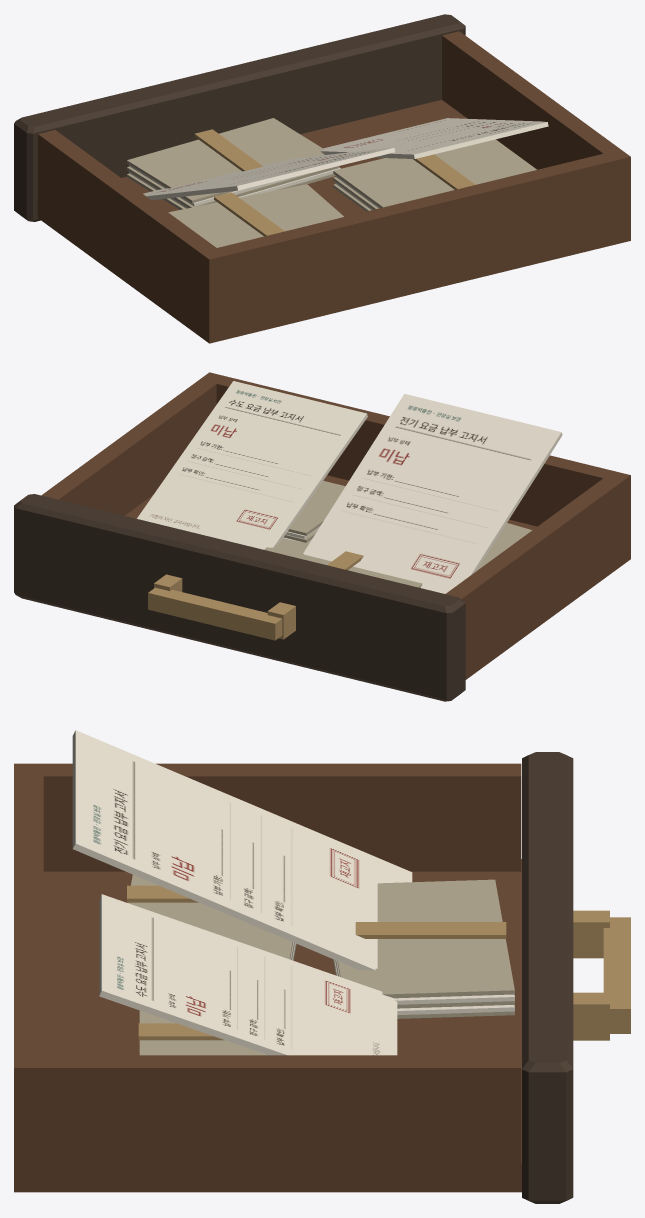
File: C01_Overdue_Utility_Drawer.fbx
The picture shows the model from 3 angles, top to bottom: view 1: azimuth 30°, elevation 25°; view 2: azimuth 150°, elevation 25°; view 3: azimuth 270°, elevation 25°; orthographic projection. The views are drawn at different scales.
Parts seen in each view (by area): view 1: Drawer, Bill_Stacks, Water_Bill, Front_Overdue_Notice; view 2: Drawer, Front_Overdue_Notice, Water_Bill, Bill_Stacks; view 3: Drawer, Front_Overdue_Notice, Water_Bill, Bill_Stacks.
Part boxes in pixels (x1,y1,x2,y2): Drawer: (14, 14, 630, 343); Bill_Stacks: (127, 118, 536, 247); Water_Bill: (320, 118, 548, 158); Front_Overdue_Notice: (143, 147, 395, 200); Drawer: (14, 372, 630, 701); Front_Overdue_Notice: (303, 394, 562, 593); Water_Bill: (137, 381, 367, 549); Bill_Stacks: (264, 481, 532, 587); Drawer: (14, 752, 630, 1203); Front_Overdue_Notice: (72, 730, 412, 970); Water_Bill: (99, 894, 397, 1055); Bill_Stacks: (127, 874, 514, 1055).
Size of the model in its own units: 0.656 by 0.1944 by 0.54.
Materials: 7 (1 with a texture image).
